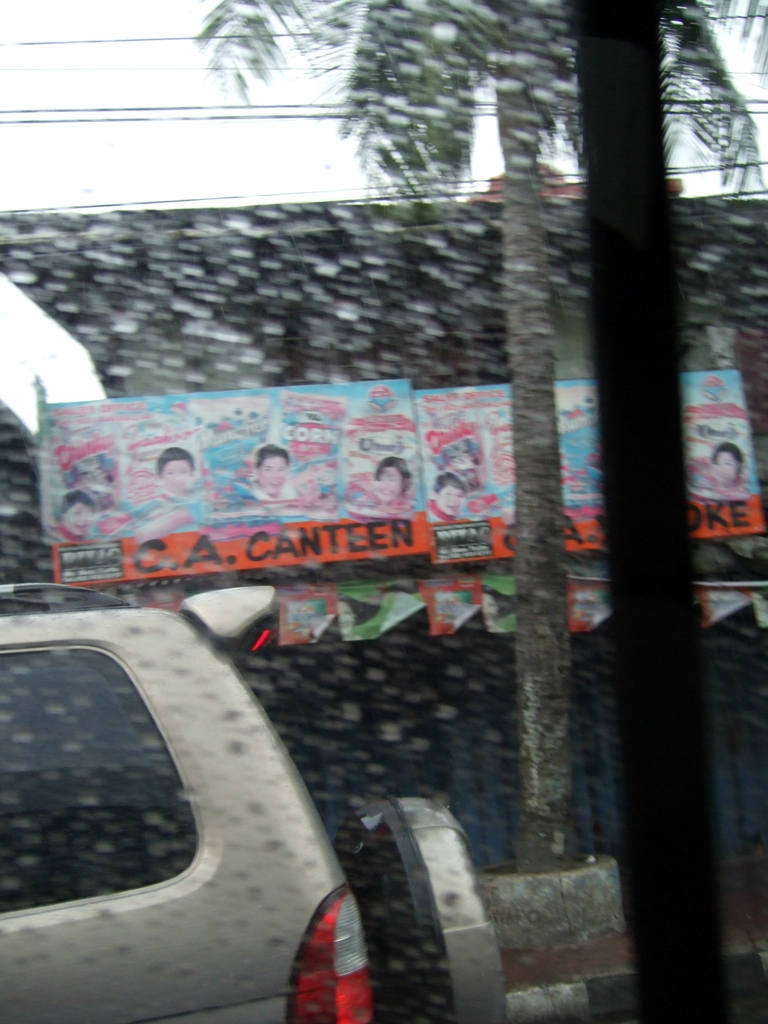Car: (12, 608, 355, 1024)
